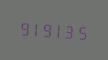five: (78, 21, 89, 42)
nine: (17, 17, 28, 38), (42, 19, 53, 39)
one: (29, 18, 40, 39), (54, 20, 65, 40)
three: (66, 20, 77, 41)
